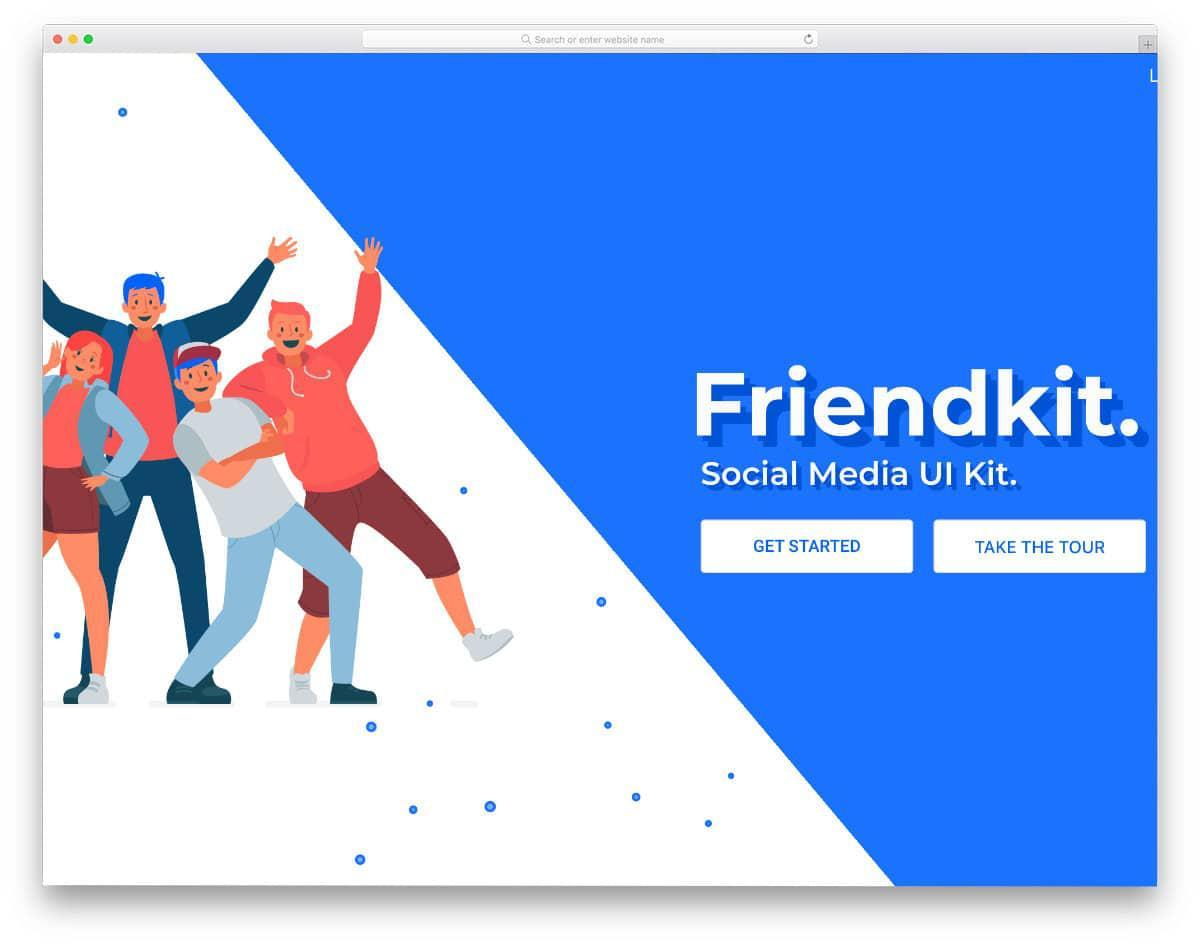button: (702, 520, 914, 573), (937, 524, 1147, 574)
